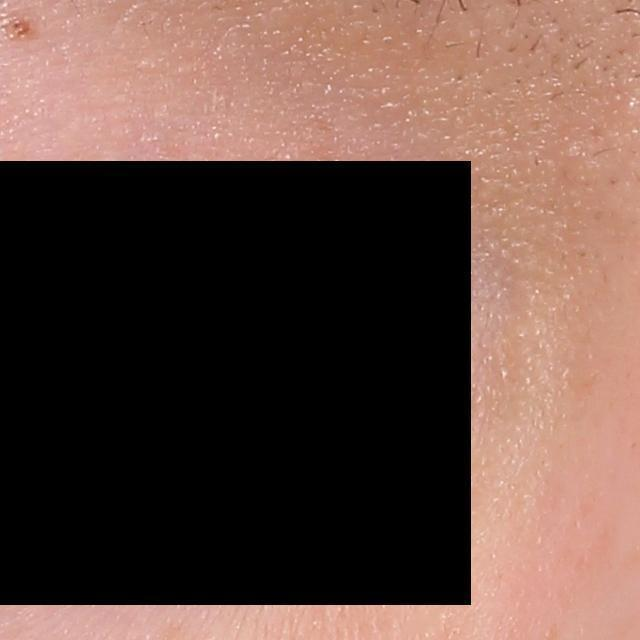nevus: (11, 14, 38, 46)
